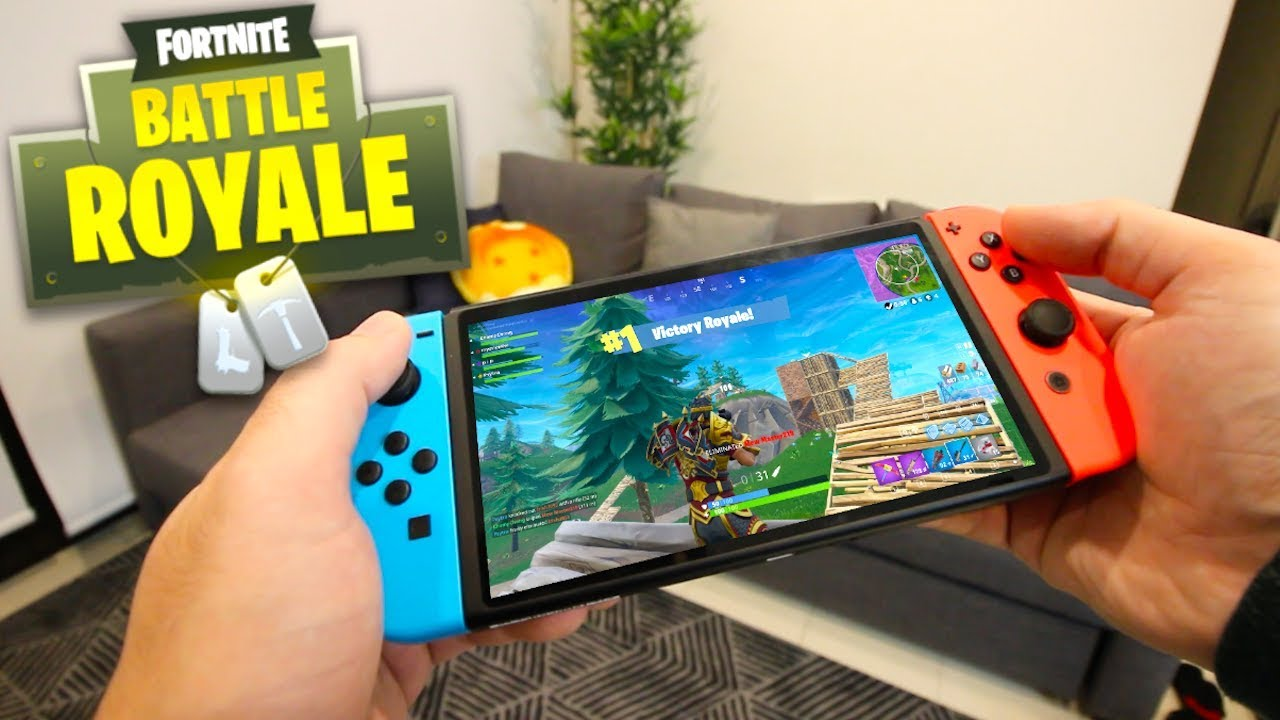NintendoSwitch: (292, 201, 1143, 642)
